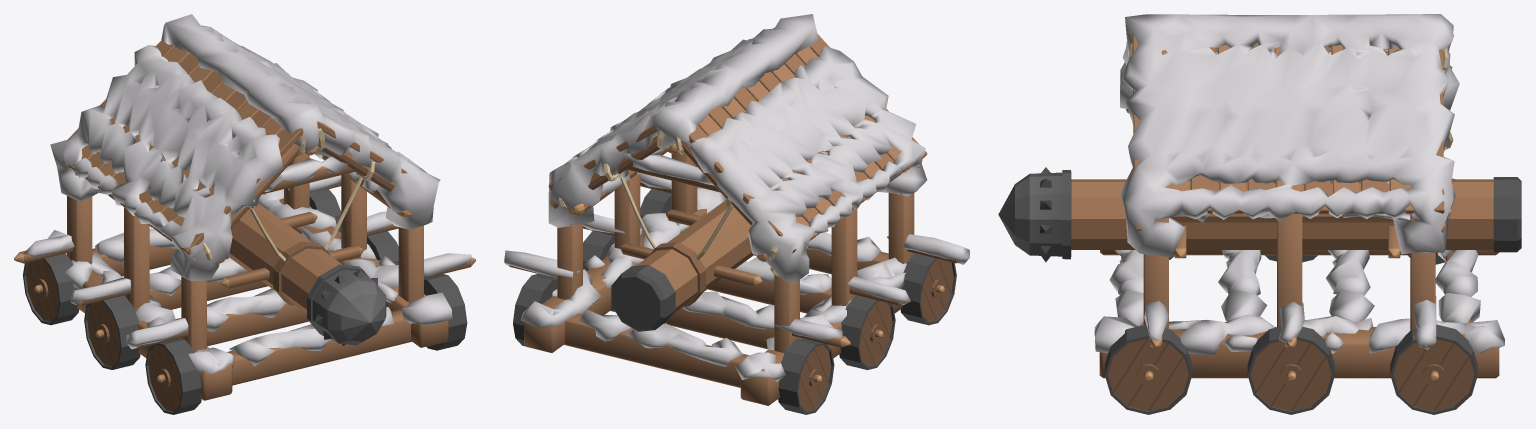
Rendered from WallDestroyerSnowy_1.fbx.
3 renders of one model, left to right at view 1: azimuth 30°, elevation 25°; view 2: azimuth 150°, elevation 25°; view 3: azimuth 270°, elevation 25°, orthographic. The views are drawn at different scales.
Visible parts, largest first — view 1: WallDestroyerSnowy_1, DestroyerLog.001, Wheel_1.001, Wheel_2.001, Wheel_3.001, Wheel_6.001, Wheel_5.001, Wheel_4.001; view 2: WallDestroyerSnowy_1, DestroyerLog.001, Wheel_3.001, Wheel_2.001, Wheel_1.001, Wheel_4.001, Wheel_5.001, Wheel_6.001; view 3: WallDestroyerSnowy_1, DestroyerLog.001, Wheel_6.001, Wheel_5.001, Wheel_4.001.
Part boxes in pixels (x1=…): WallDestroyerSnowy_1: x1=14, y1=14, x2=475, y2=400; DestroyerLog.001: x1=175, y1=203, x2=386, y2=345; Wheel_1.001: x1=145, y1=338, x2=201, y2=414; Wheel_2.001: x1=84, y1=295, x2=140, y2=369; Wheel_3.001: x1=23, y1=253, x2=79, y2=325; Wheel_6.001: x1=424, y1=274, x2=467, y2=350; Wheel_5.001: x1=367, y1=231, x2=398, y2=265; Wheel_4.001: x1=309, y1=189, x2=341, y2=232; WallDestroyerSnowy_1: x1=504, y1=14, x2=969, y2=405; DestroyerLog.001: x1=611, y1=199, x2=807, y2=331; Wheel_3.001: x1=778, y1=338, x2=834, y2=414; Wheel_2.001: x1=839, y1=295, x2=895, y2=369; Wheel_1.001: x1=900, y1=253, x2=956, y2=325; Wheel_4.001: x1=513, y1=274, x2=557, y2=346; Wheel_5.001: x1=583, y1=231, x2=614, y2=271; Wheel_6.001: x1=640, y1=189, x2=671, y2=228; WallDestroyerSnowy_1: x1=1094, y1=14, x2=1504, y2=378; DestroyerLog.001: x1=998, y1=167, x2=1521, y2=262; Wheel_6.001: x1=1105, y1=324, x2=1192, y2=414; Wheel_5.001: x1=1247, y1=326, x2=1334, y2=414; Wheel_4.001: x1=1390, y1=324, x2=1477, y2=414.
Bounding box in the file's own units: 281 × 208 × 310.
